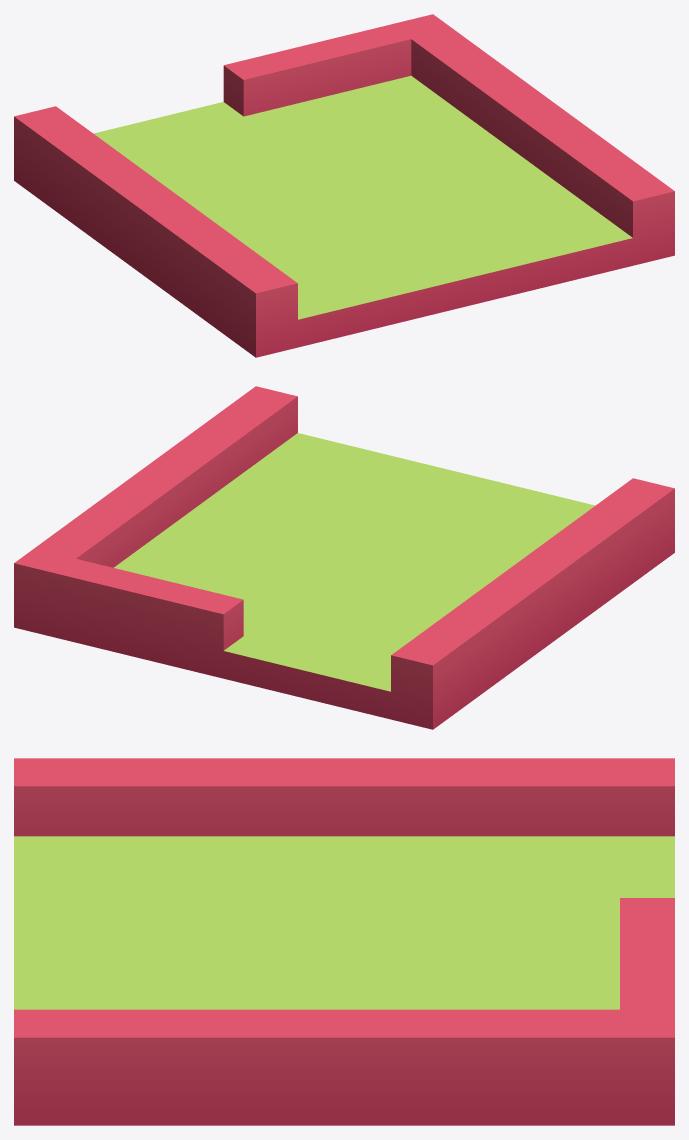
The model's file is wall-left.fbx.
3 renders of one model, top to bottom at view 1: azimuth 30°, elevation 25°; view 2: azimuth 150°, elevation 25°; view 3: azimuth 270°, elevation 25°, orthographic. The views are drawn at different scales.
Visible parts, largest first — view 1: wall_left; view 2: wall_left; view 3: wall_left.
Boxes of the visible parts, x1,y1,x2,y2 form: wall_left: (14, 14, 674, 357); wall_left: (14, 386, 674, 729); wall_left: (14, 758, 674, 1125).
Bounding box in the file's own units: 99.99 × 14.67 × 99.99.
